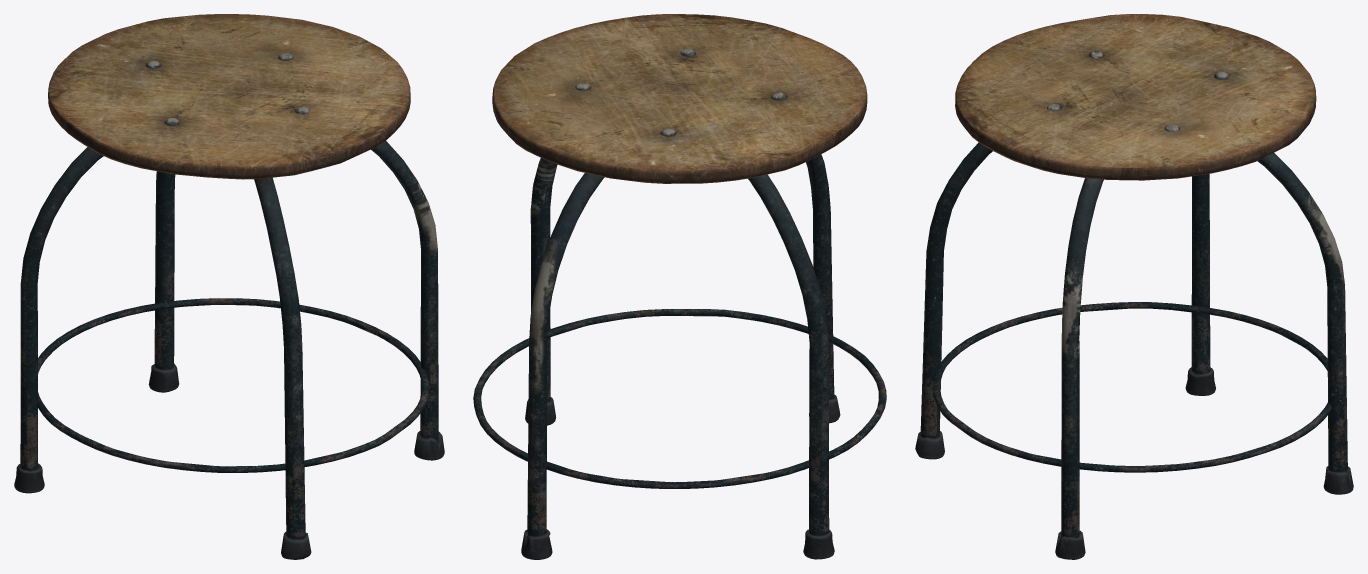
The model's file is metal_stool_02.glb.
3 renders of one model, left to right at view 1: azimuth 30°, elevation 25°; view 2: azimuth 150°, elevation 25°; view 3: azimuth 270°, elevation 25°, orthographic. The views are drawn at different scales.
Visible parts, largest first — view 1: metal_stool_02; view 2: metal_stool_02; view 3: metal_stool_02.
Boxes of the visible parts, bbox=[...] form: metal_stool_02: bbox=[14, 14, 444, 559]; metal_stool_02: bbox=[473, 14, 886, 559]; metal_stool_02: bbox=[915, 14, 1353, 559].
Bounding box in the file's own units: 0.4481 × 0.4579 × 0.4731.
Materials: 1 (1 with a texture image).
